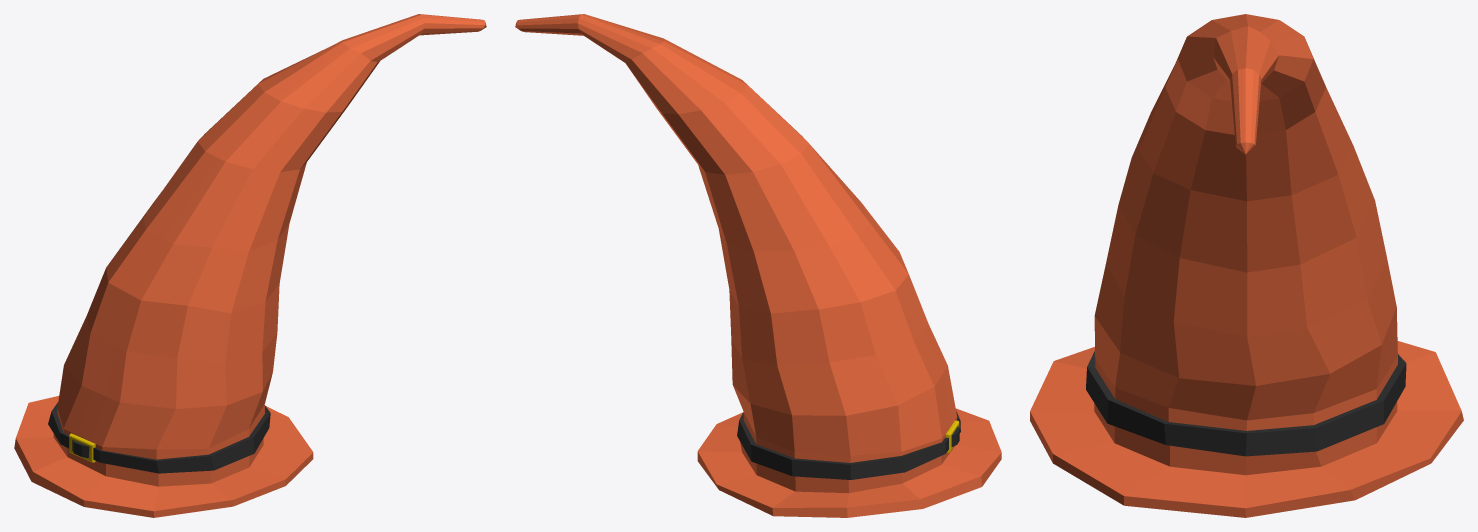
The model's file is WizardCap.fbx.
3 renders of one model, left to right at view 1: azimuth 30°, elevation 25°; view 2: azimuth 150°, elevation 25°; view 3: azimuth 270°, elevation 25°, orthographic. The views are drawn at different scales.
Parts seen in each view (by area): view 1: WizardCap; view 2: WizardCap; view 3: WizardCap.
Boxes of the visible parts, x1=… form: WizardCap: x1=14, y1=14, x2=486, y2=517; WizardCap: x1=515, y1=14, x2=1001, y2=517; WizardCap: x1=1030, y1=14, x2=1463, y2=517.
Size of the model in its own units: 88.38 by 69.61 by 50.38.
